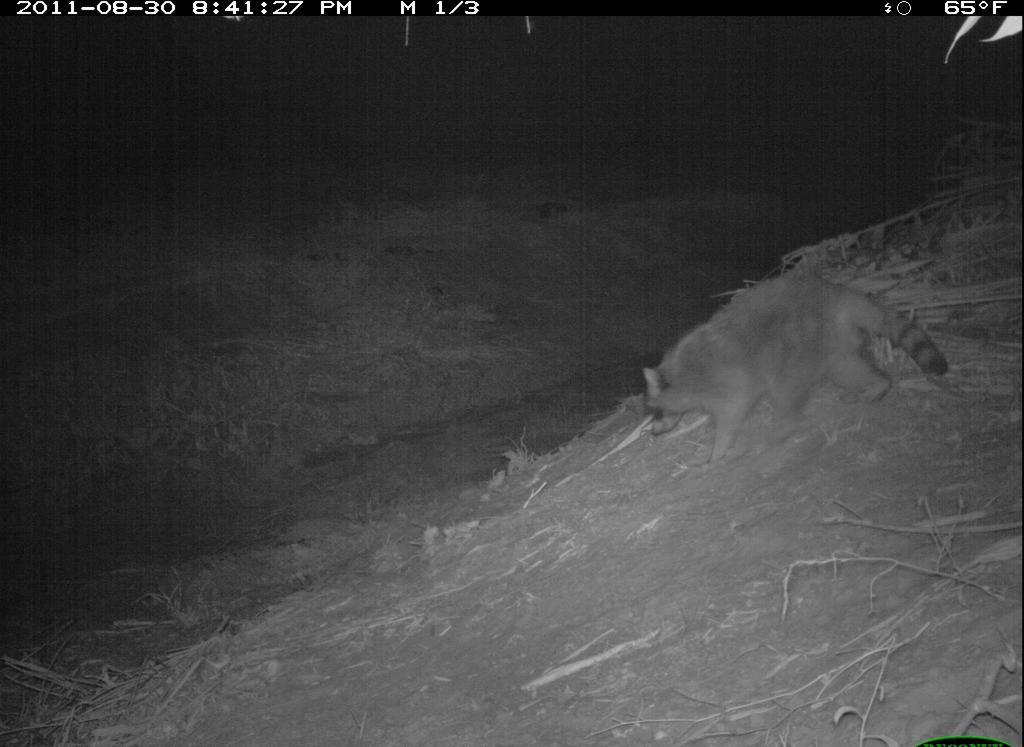raccoon: (626, 260, 964, 475)
